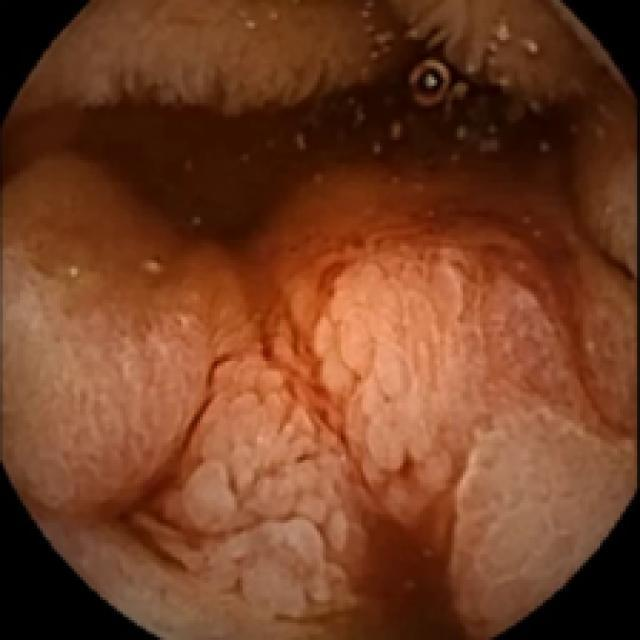bleeding: (107, 220, 595, 640), (1, 98, 280, 219)
